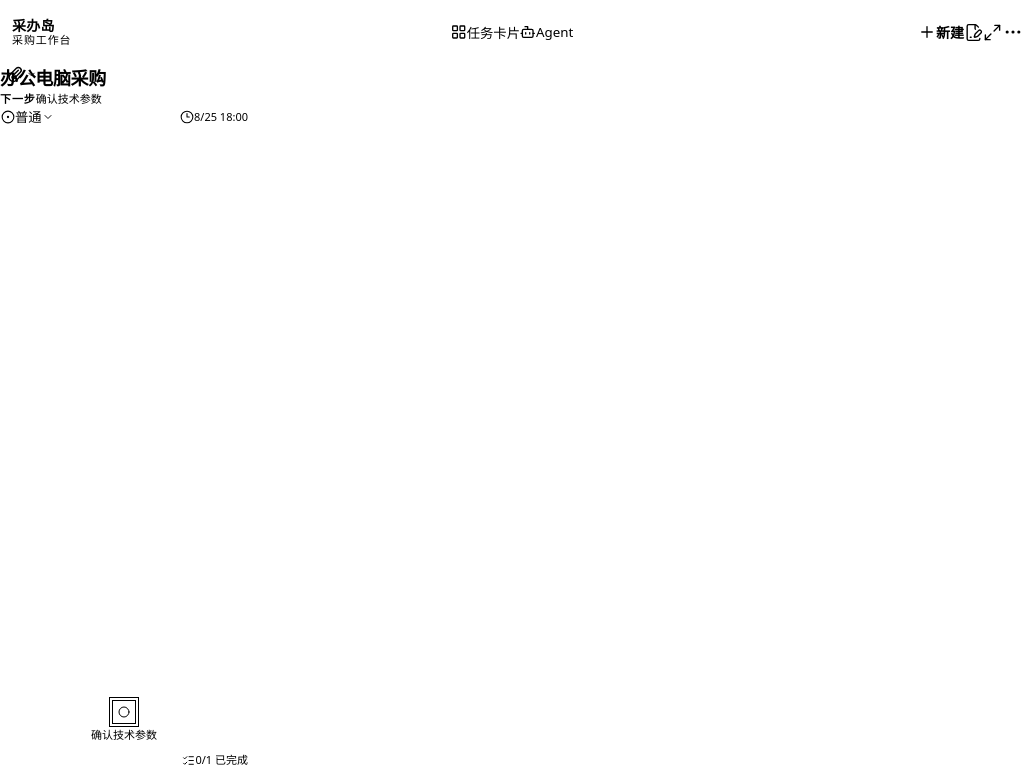
it: P16 节点快捷时间与提醒 › L2 并发冲突保留对话框和用户输入，不覆盖新值
Click the button with aria-label "确认技术参数，待完成" at [124, 721], box 0,700 -> 248,742
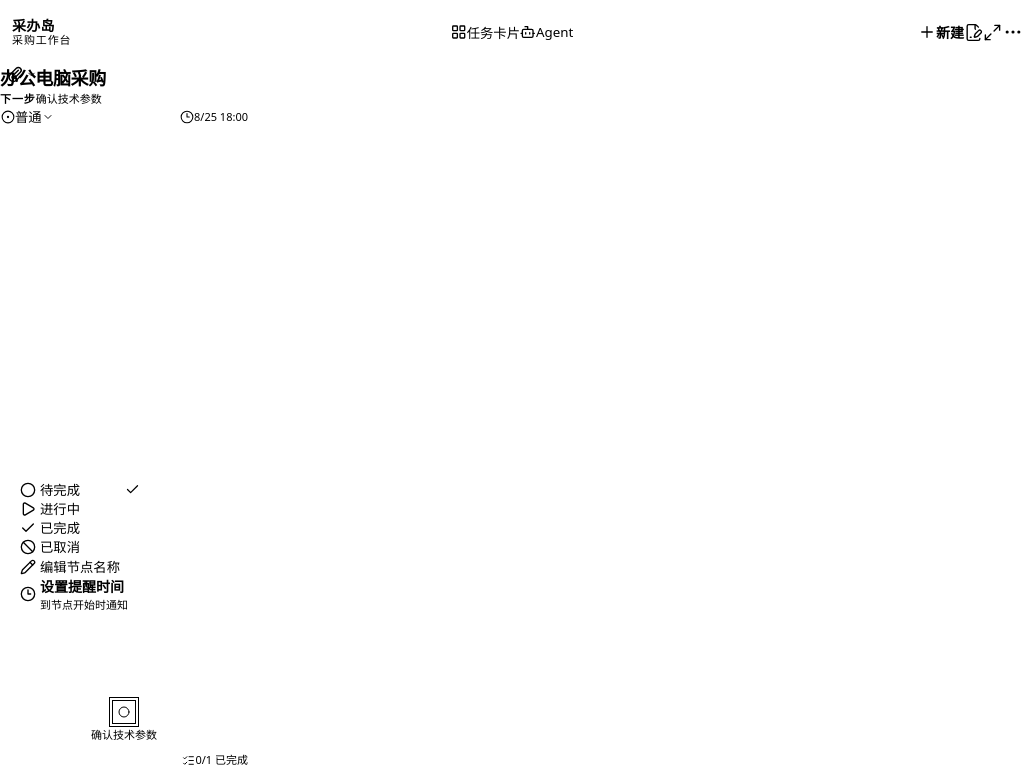
Click the menu item "设置提醒时间 到节点开始时通知" at [80, 594], box 20,576 -> 140,612
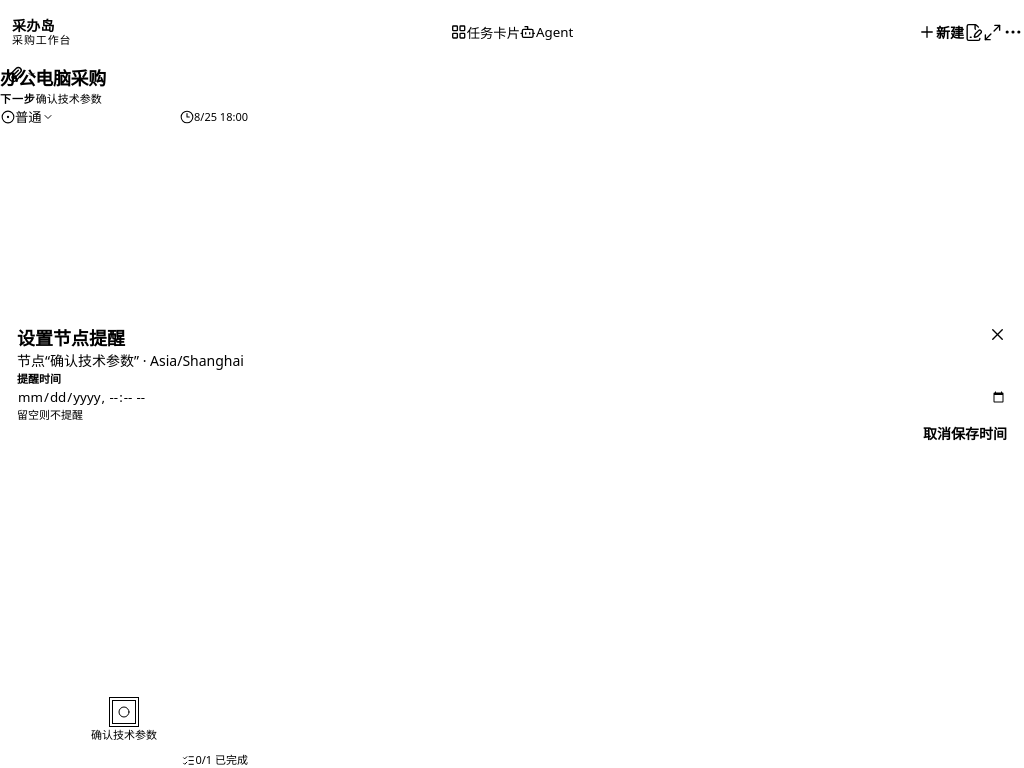
Type "2026-08-24T09:30" into the field labelled "提醒时间 留空则不提醒" at [512, 397], box 17,387 -> 1007,407
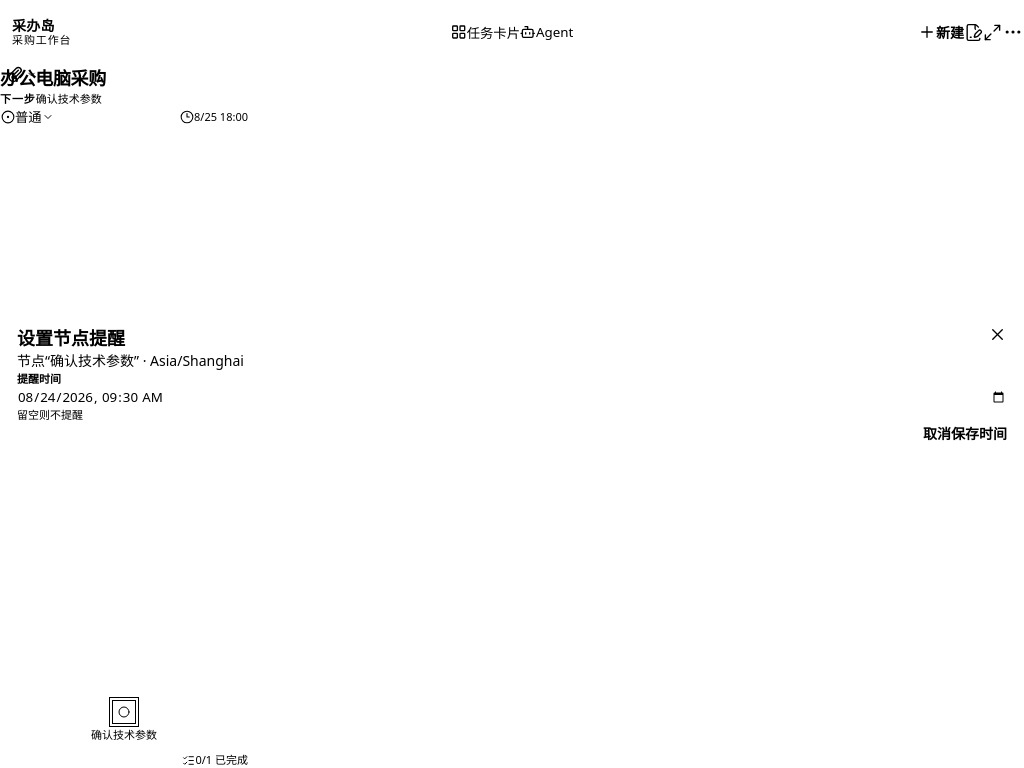
Click the button "保存时间" at [979, 433], box 951,423 -> 1007,443
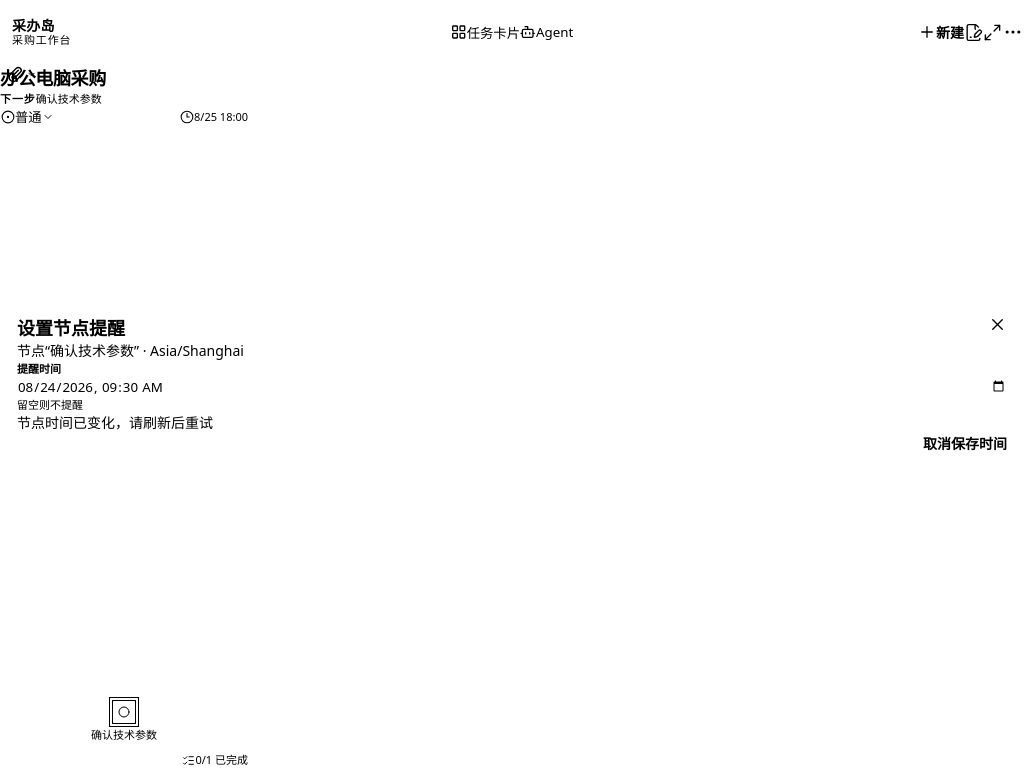
Result: the message reads "节点时间已变化，请刷新后重试" at 17,413 -> 213,432
